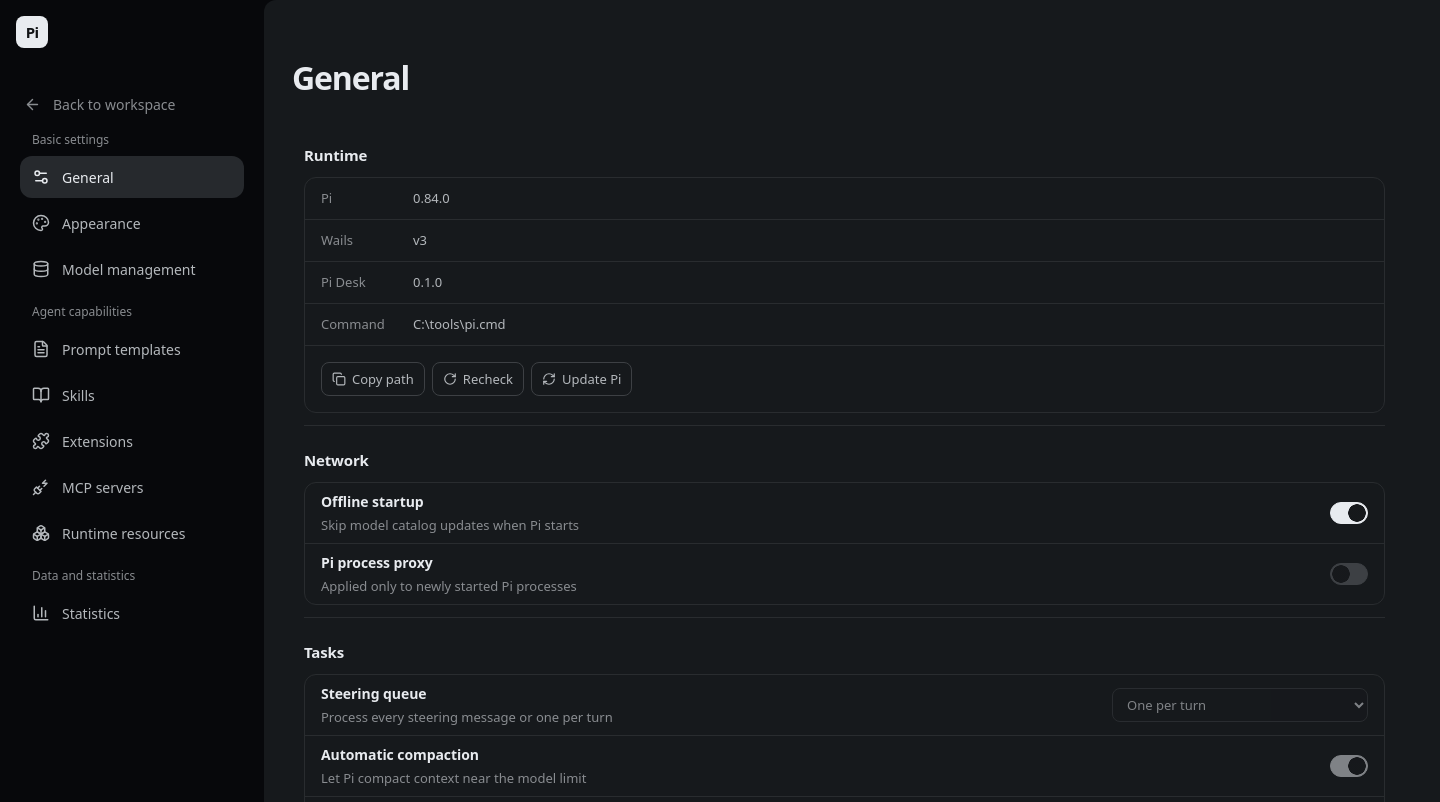
Test case: SettingsDialog › keeps only Pi self-update in Runtime and confirms before invoking the backend
Click the button with test id "update-pi". click: (582, 379)
box: [531,362,632,396]
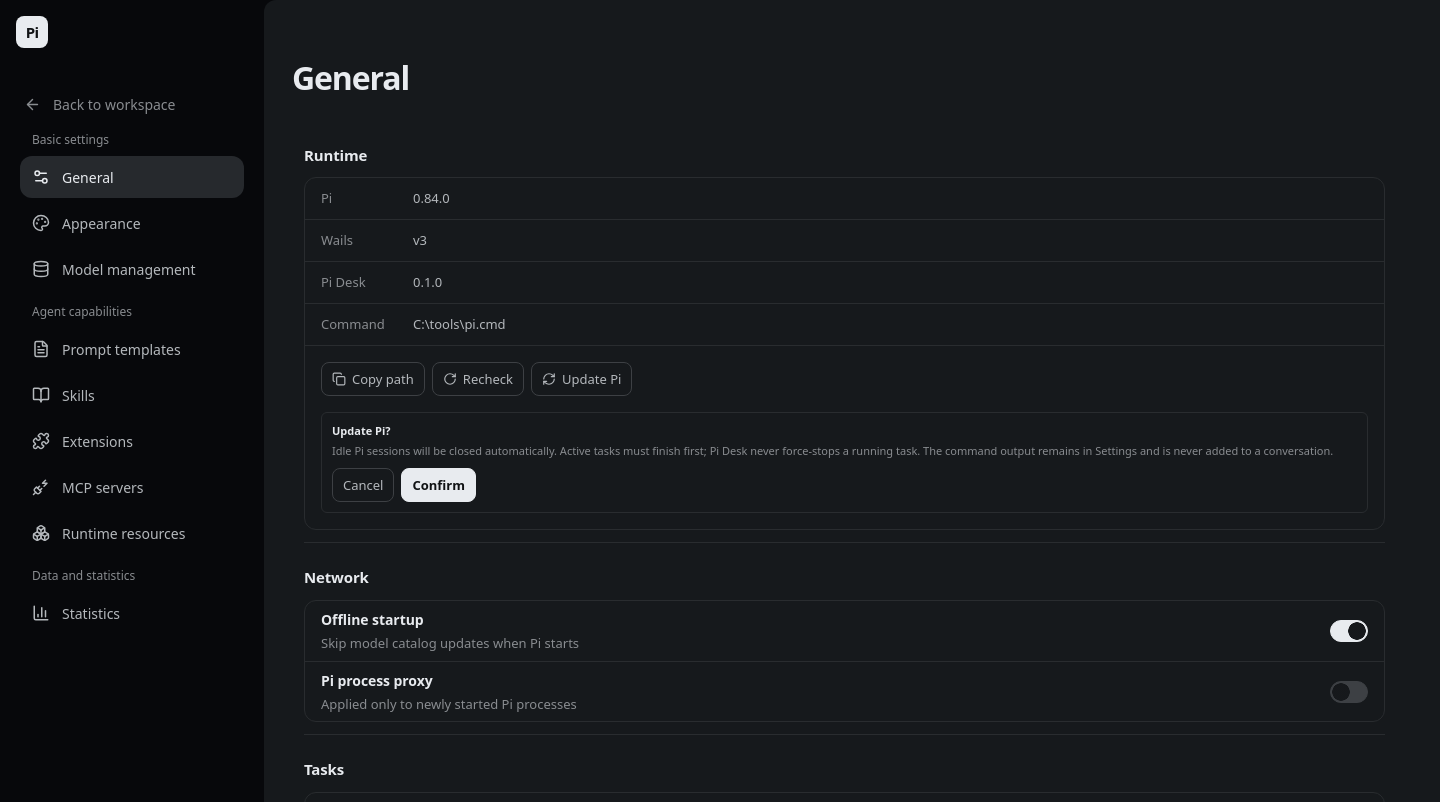
Click the button with test id "confirm-pi-maintenance". click: (439, 486)
box: [402,468,476,502]
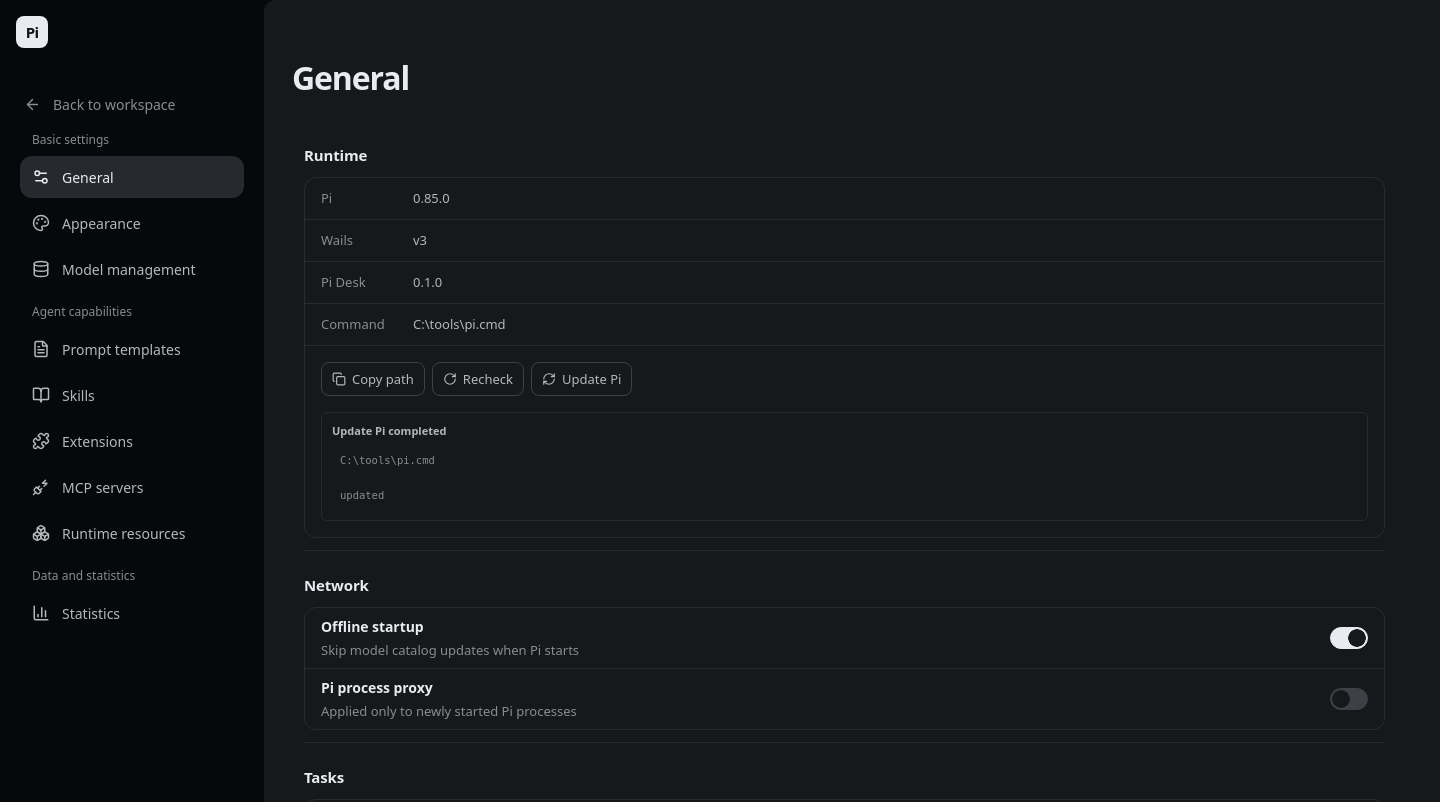
Now the text "updated" is shown, box [332,481,1357,510]
